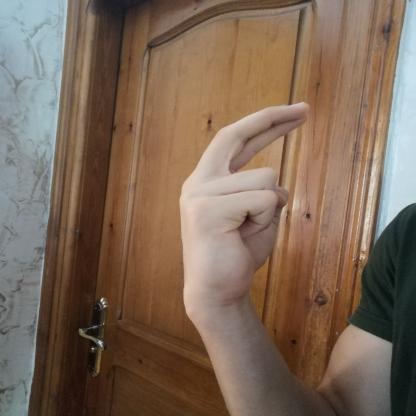ZAY: (166, 93, 322, 319)
